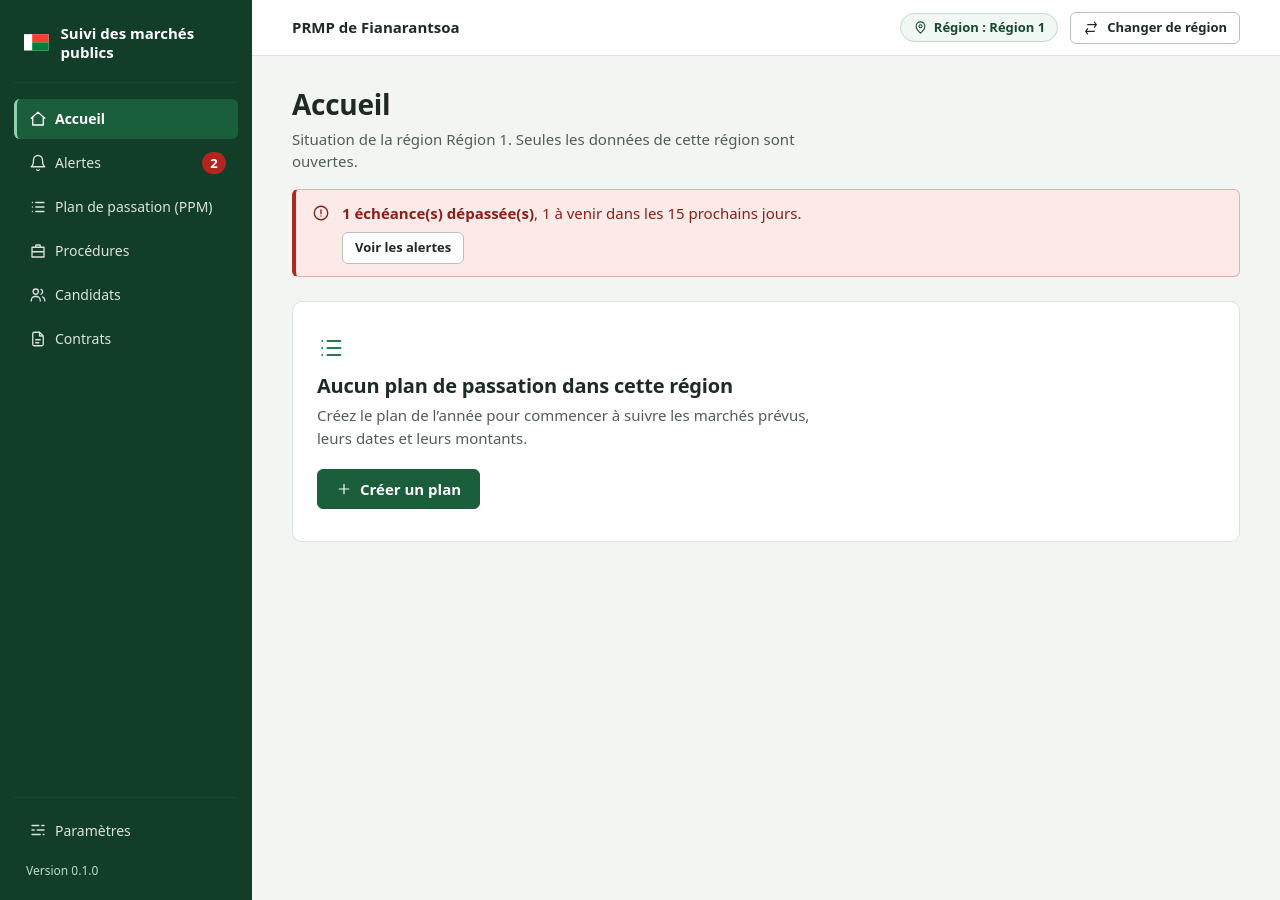
Test case: alertes dans l’application › l’accueil résume les échéances et mène à la page des alertes
This screenshot has width=1280, height=900.
What coordinates should you click on to do the following:
click the button "Voir les alertes"
I would click on:
 (403, 248)
Its box is [342,232,464,264].
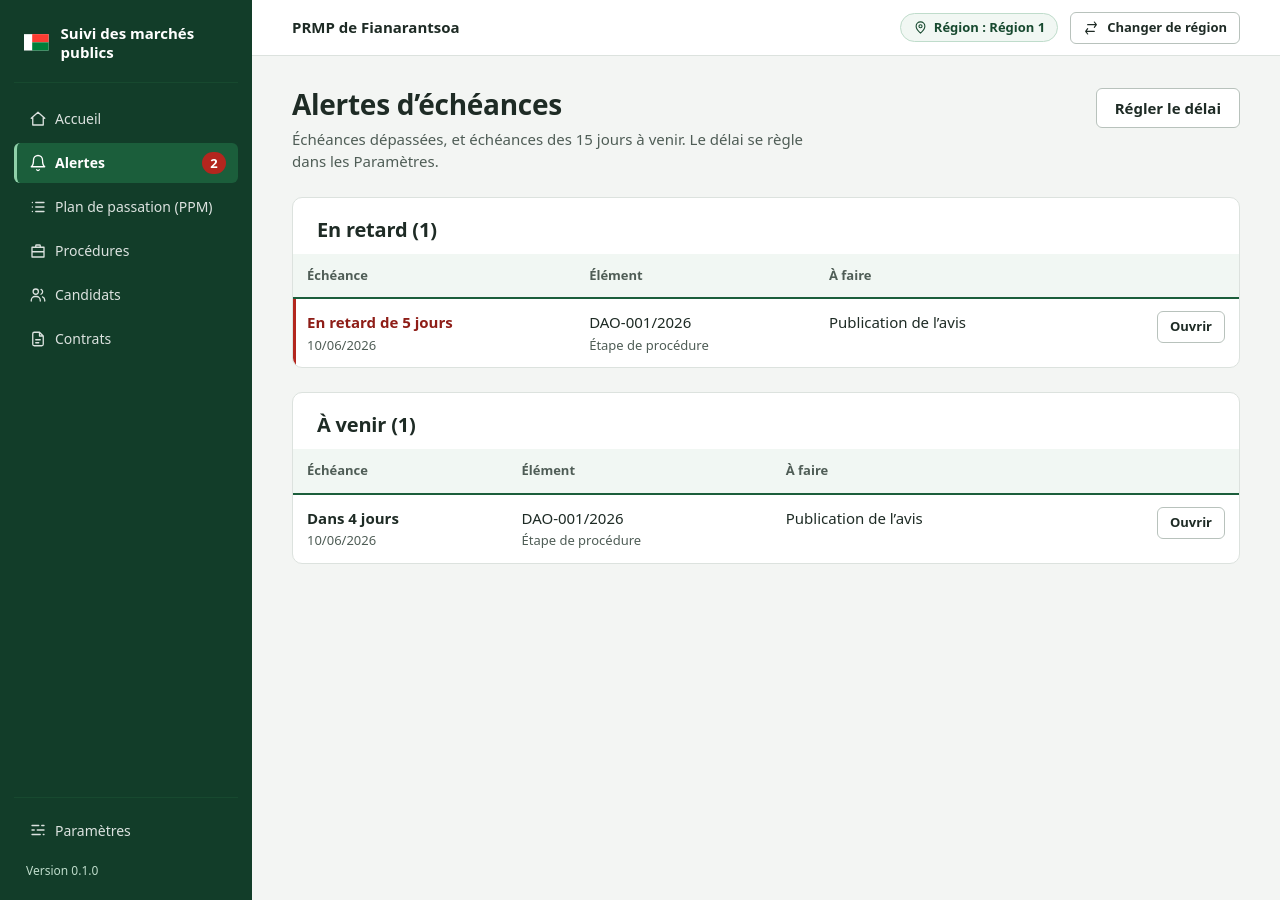
Expected: the heading "Alertes d’échéances" is shown, [292,85,562,123]
Expected: the heading "En retard (1)" is shown, [317,216,437,243]
